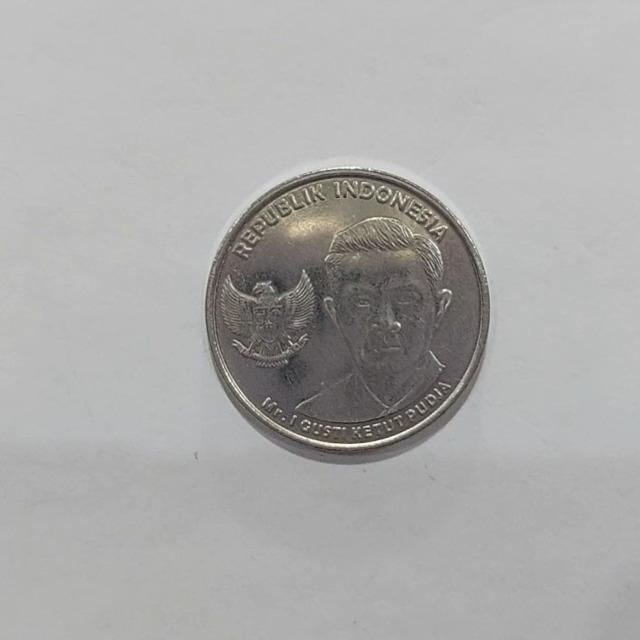Rp100: (203, 163, 491, 461), (289, 213, 455, 426)
